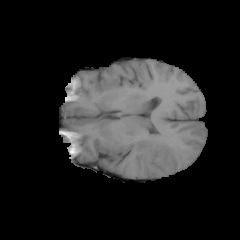glioma: (126, 132, 182, 172)
